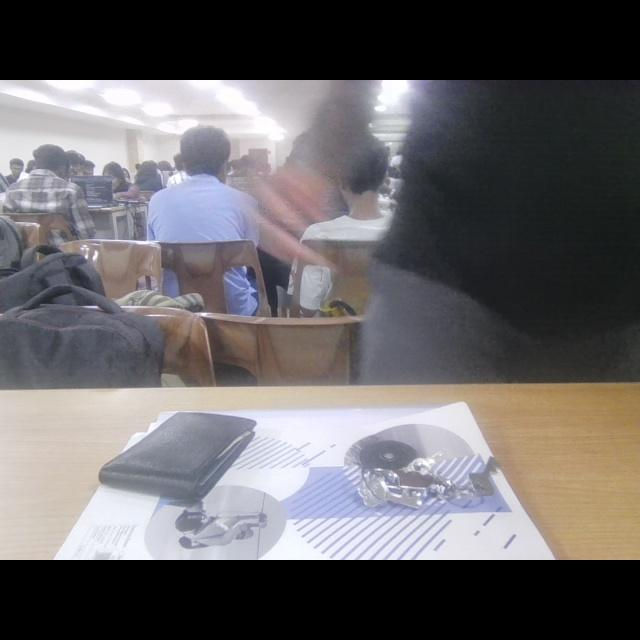keys: (351, 431, 509, 517)
wallet: (95, 404, 268, 508)
